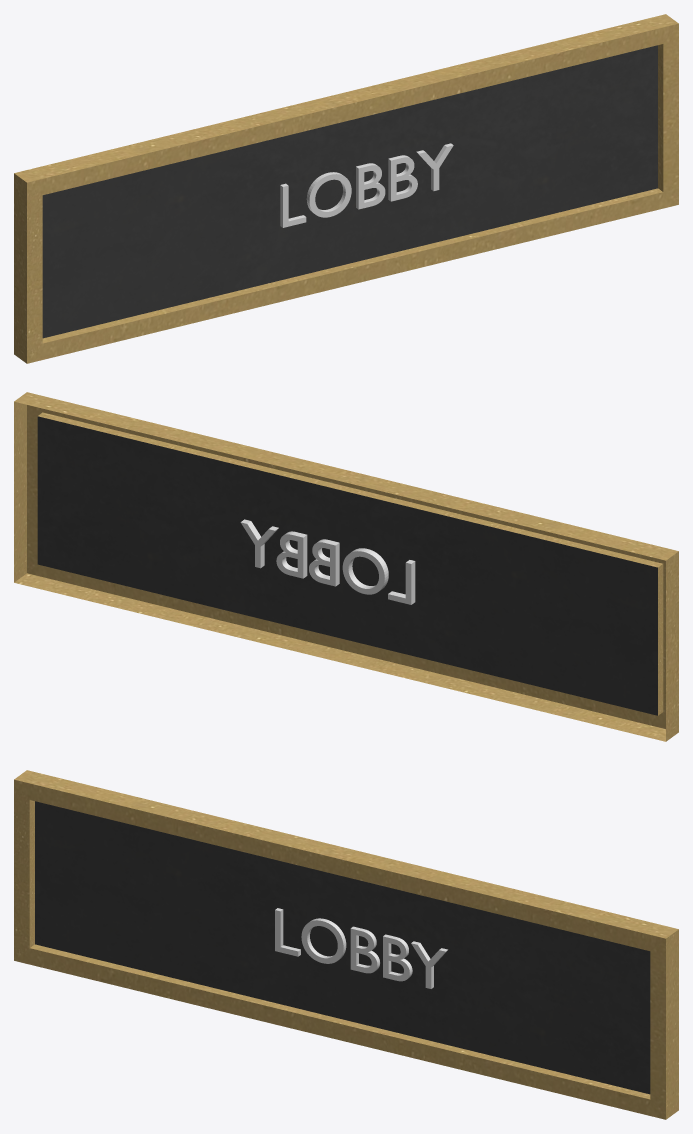
The model's file is Plate_Lobby.fbx.
The picture shows the model from 3 angles, top to bottom: view 1: azimuth 30°, elevation 25°; view 2: azimuth 150°, elevation 25°; view 3: azimuth 330°, elevation 25°; orthographic projection.
Visible parts, largest first — view 1: NameplateBriefingRoom.005; view 2: NameplateBriefingRoom.005; view 3: NameplateBriefingRoom.005.
Boxes of the visible parts, <box> form: NameplateBriefingRoom.005: <box>14,14,678,363</box>; NameplateBriefingRoom.005: <box>14,392,678,741</box>; NameplateBriefingRoom.005: <box>14,770,678,1119</box>.
Size of the model in its own units: 29 by 7.7 by 1.
Materials: 3 (2 with a texture image).
